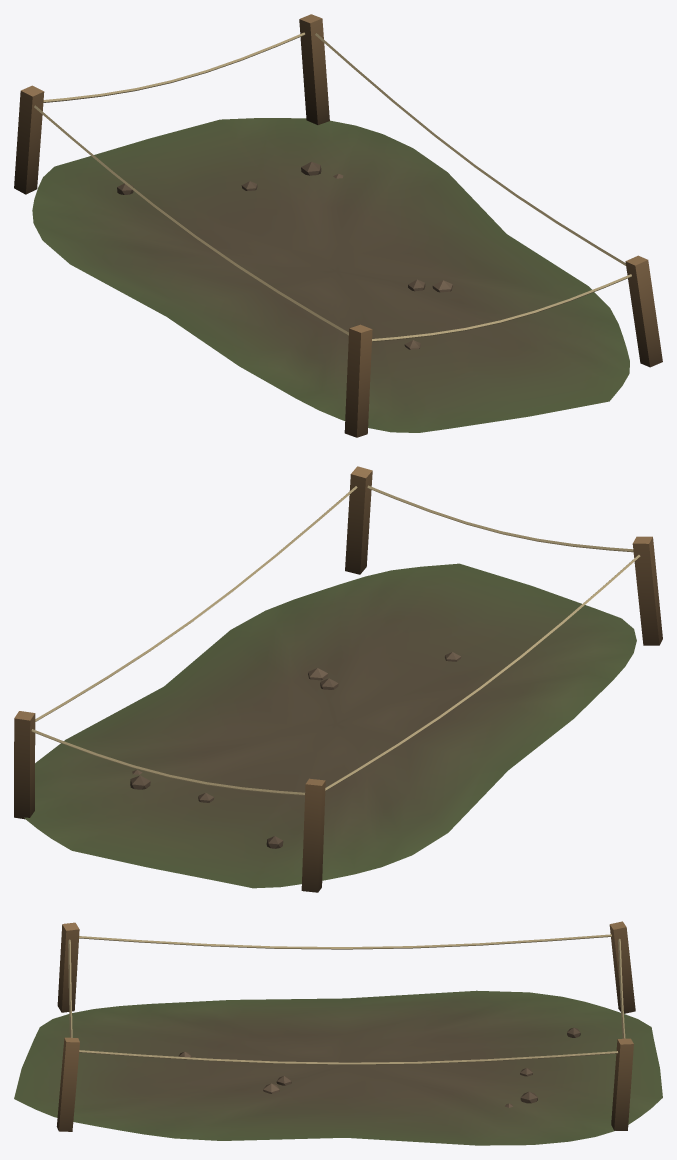
Rendered from ph_prop_grave_plot_empty.glb.
3 views of the same model, one above another, from view 1: azimuth 30°, elevation 25°; view 2: azimuth 150°, elevation 25°; view 3: azimuth 270°, elevation 25° (orthographic). The views are drawn at different scales.
Visible parts, largest first — view 1: ph_prop_grave_plot_empty; view 2: ph_prop_grave_plot_empty; view 3: ph_prop_grave_plot_empty.
Part boxes in pixels (bbox=[...]): ph_prop_grave_plot_empty: bbox=[14, 14, 662, 437]; ph_prop_grave_plot_empty: bbox=[14, 466, 662, 892]; ph_prop_grave_plot_empty: bbox=[14, 921, 662, 1145].
Bounding box in the file's own units: 1.32 × 0.3725 × 2.34.
